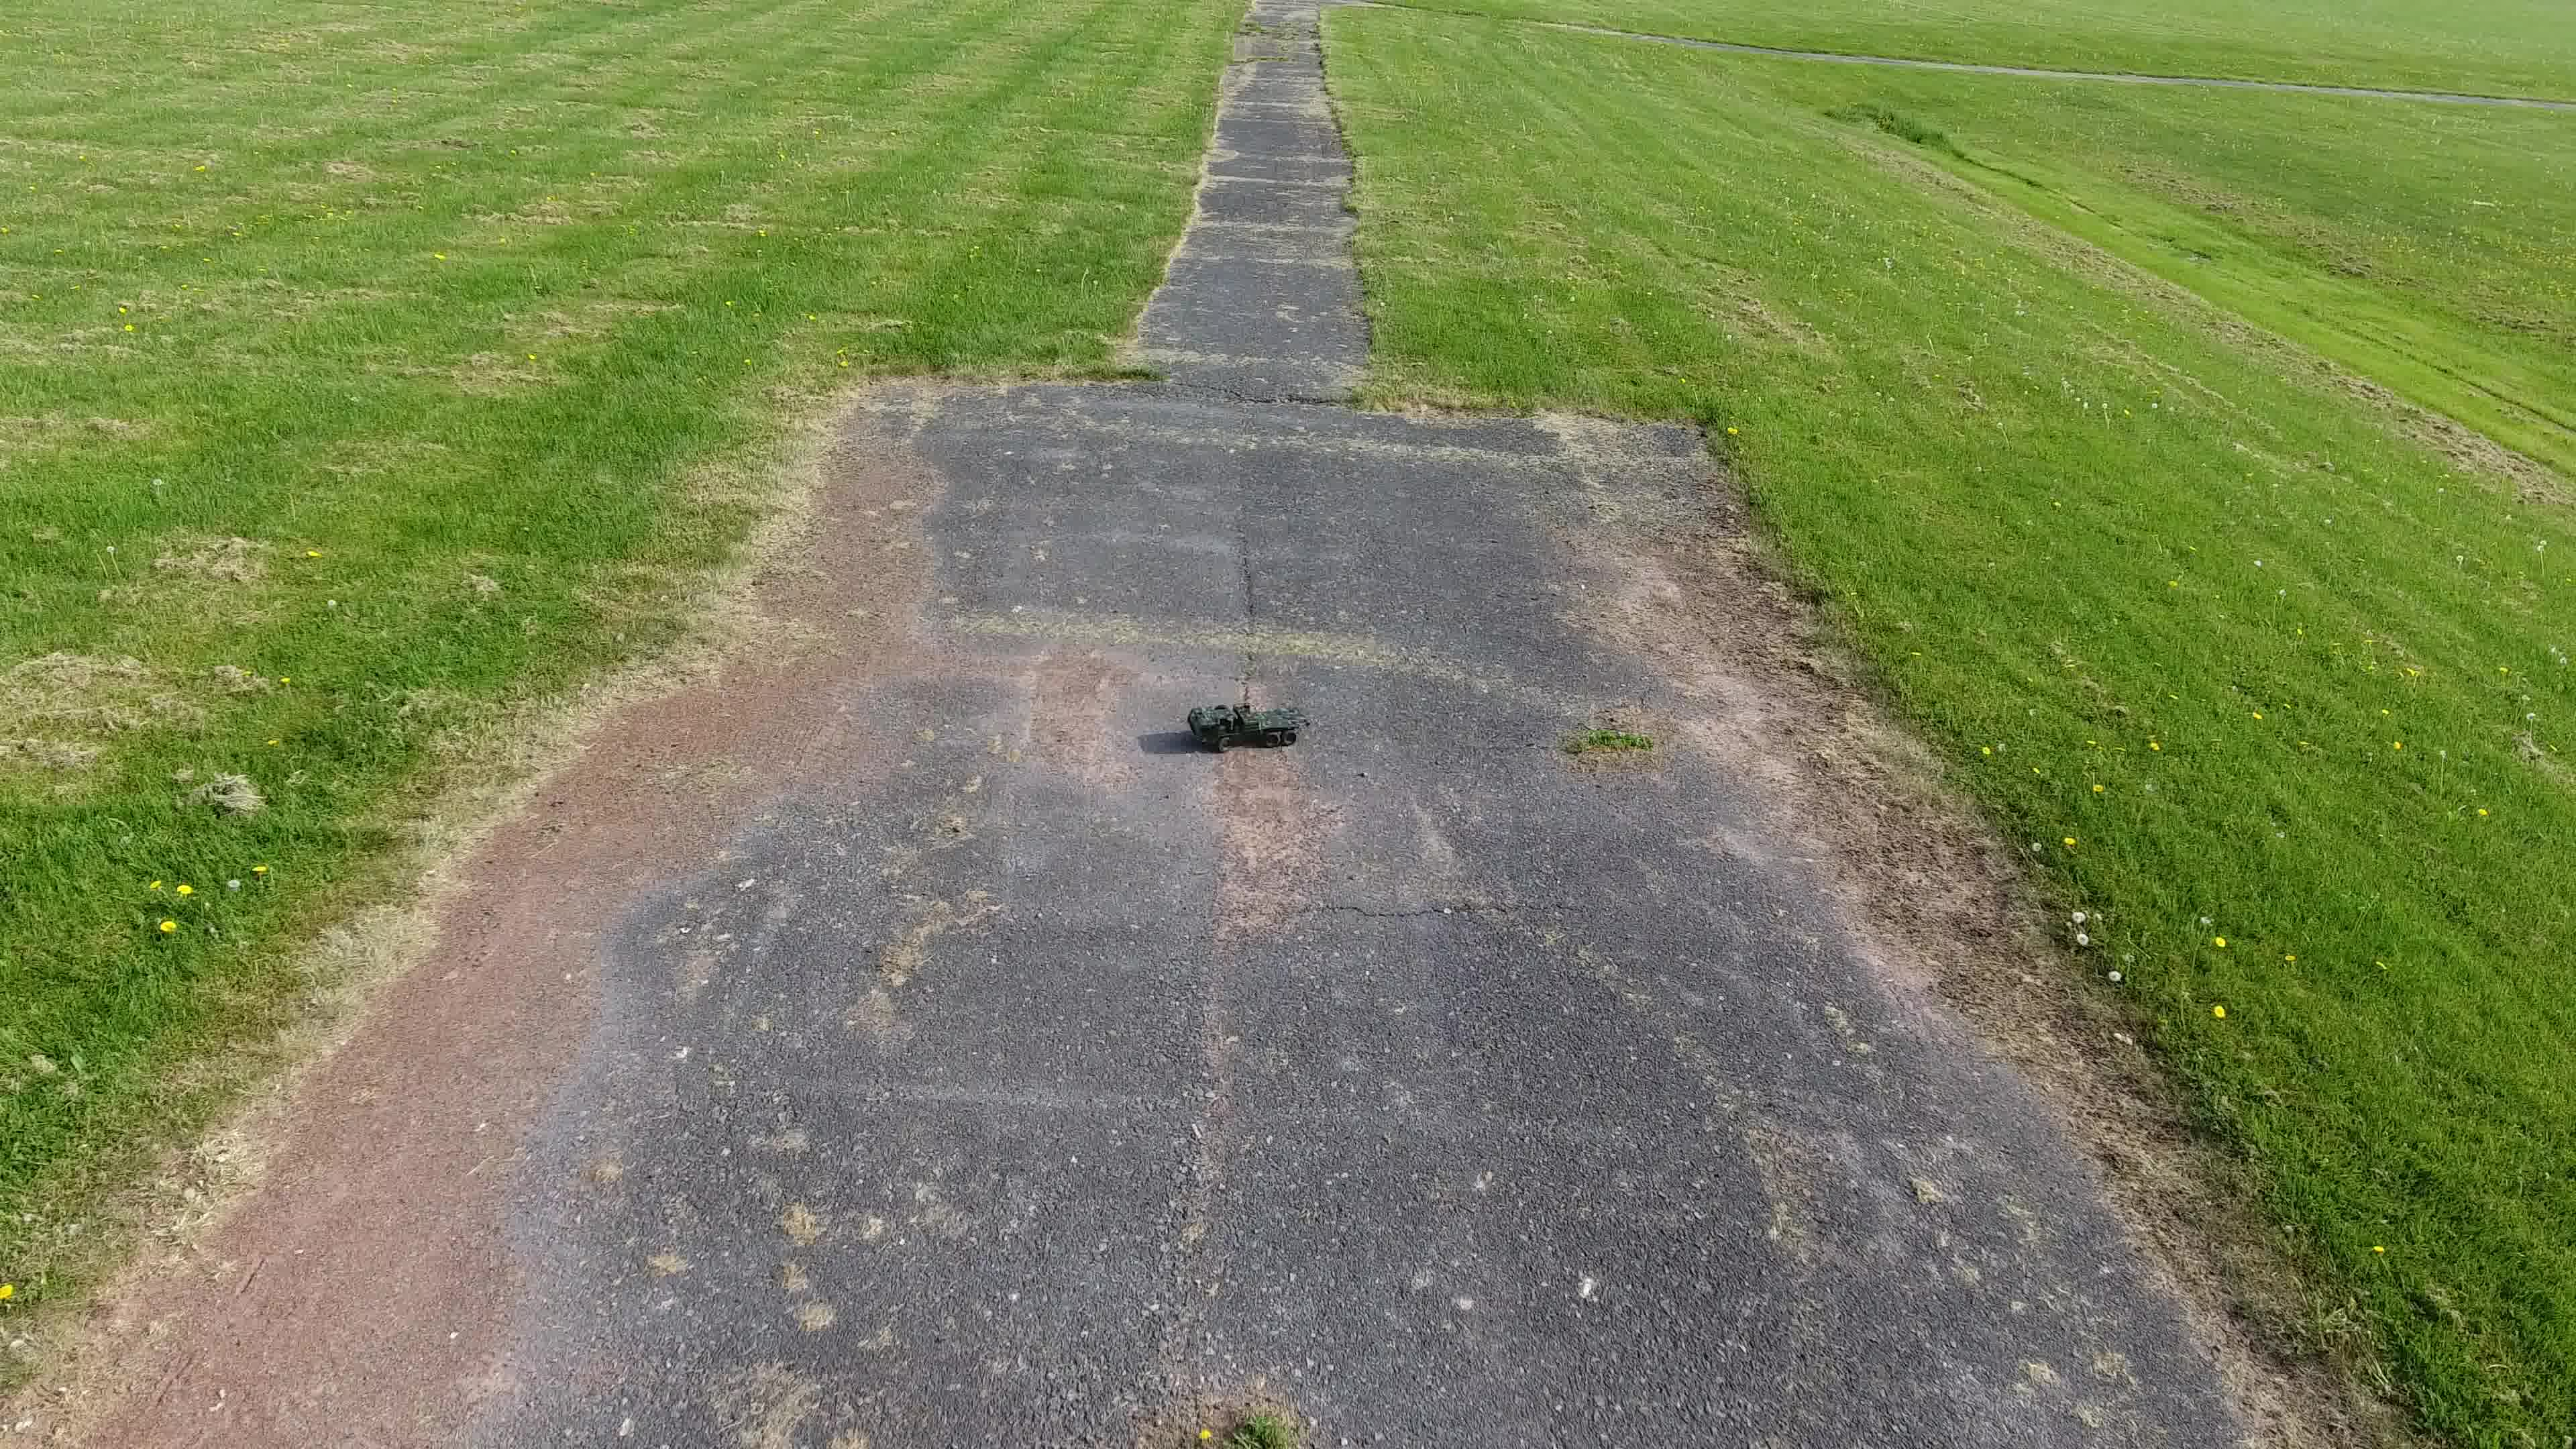transporter9_camo: (1185, 701, 1313, 754)
